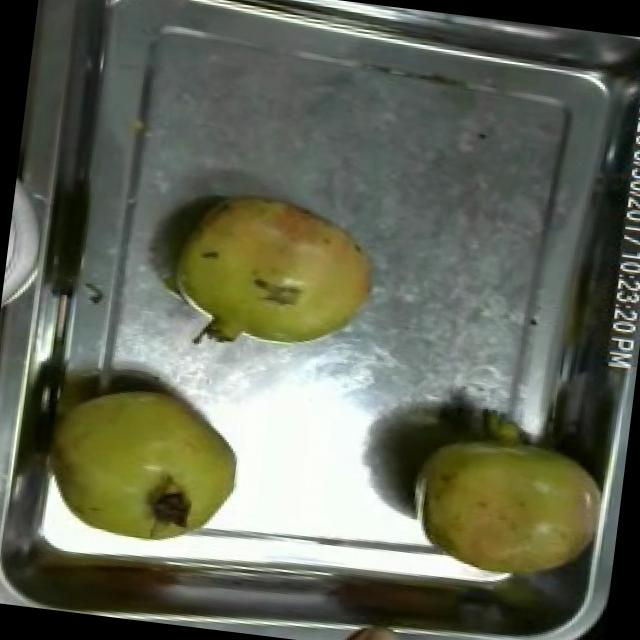fruit: (146, 174, 396, 380), (386, 391, 621, 602), (32, 366, 258, 558)
